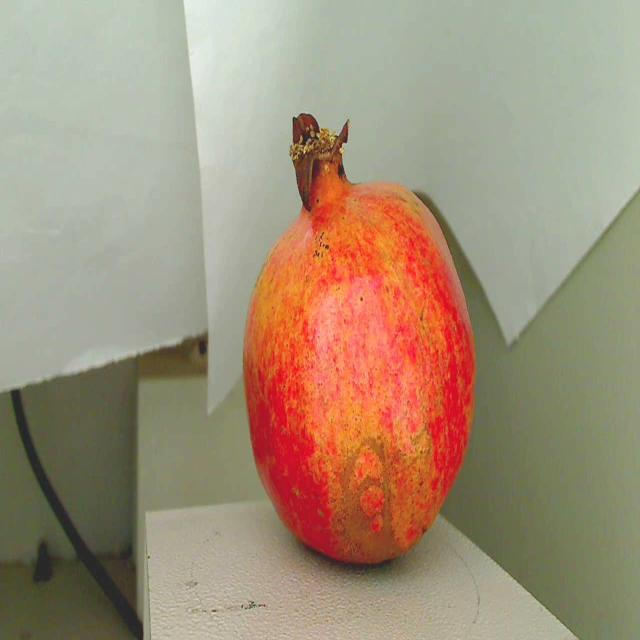pomegranate: (235, 89, 492, 586)
